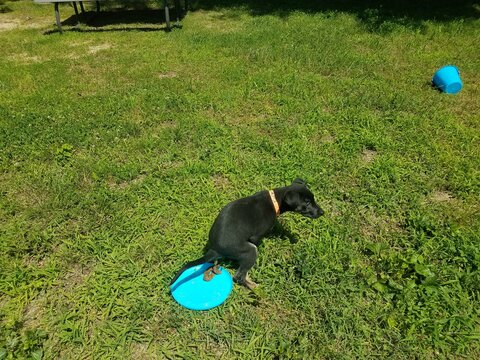dog_pooping: (166, 175, 327, 306)
